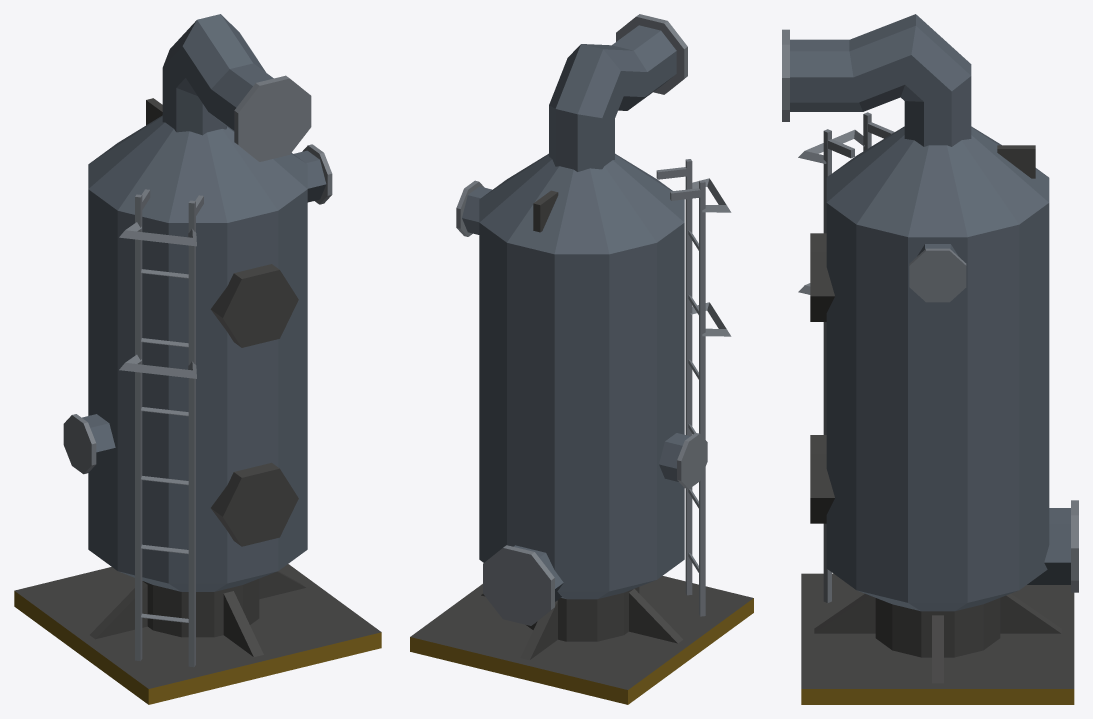
Rendered from heat_exchanger.glb.
The picture shows the model from 3 angles, left to right: view 1: azimuth 30°, elevation 25°; view 2: azimuth 150°, elevation 25°; view 3: azimuth 270°, elevation 25°; orthographic projection. The views are drawn at different scales.
Visible parts, largest first — view 1: heat_exchanger; view 2: heat_exchanger; view 3: heat_exchanger.
Boxes of the visible parts, x1,y1,x2,y2 form: heat_exchanger: [14, 14, 381, 704]; heat_exchanger: [410, 14, 753, 704]; heat_exchanger: [782, 14, 1078, 704].
Bounding box in the file's own units: 1.9 × 4.67 × 2.
